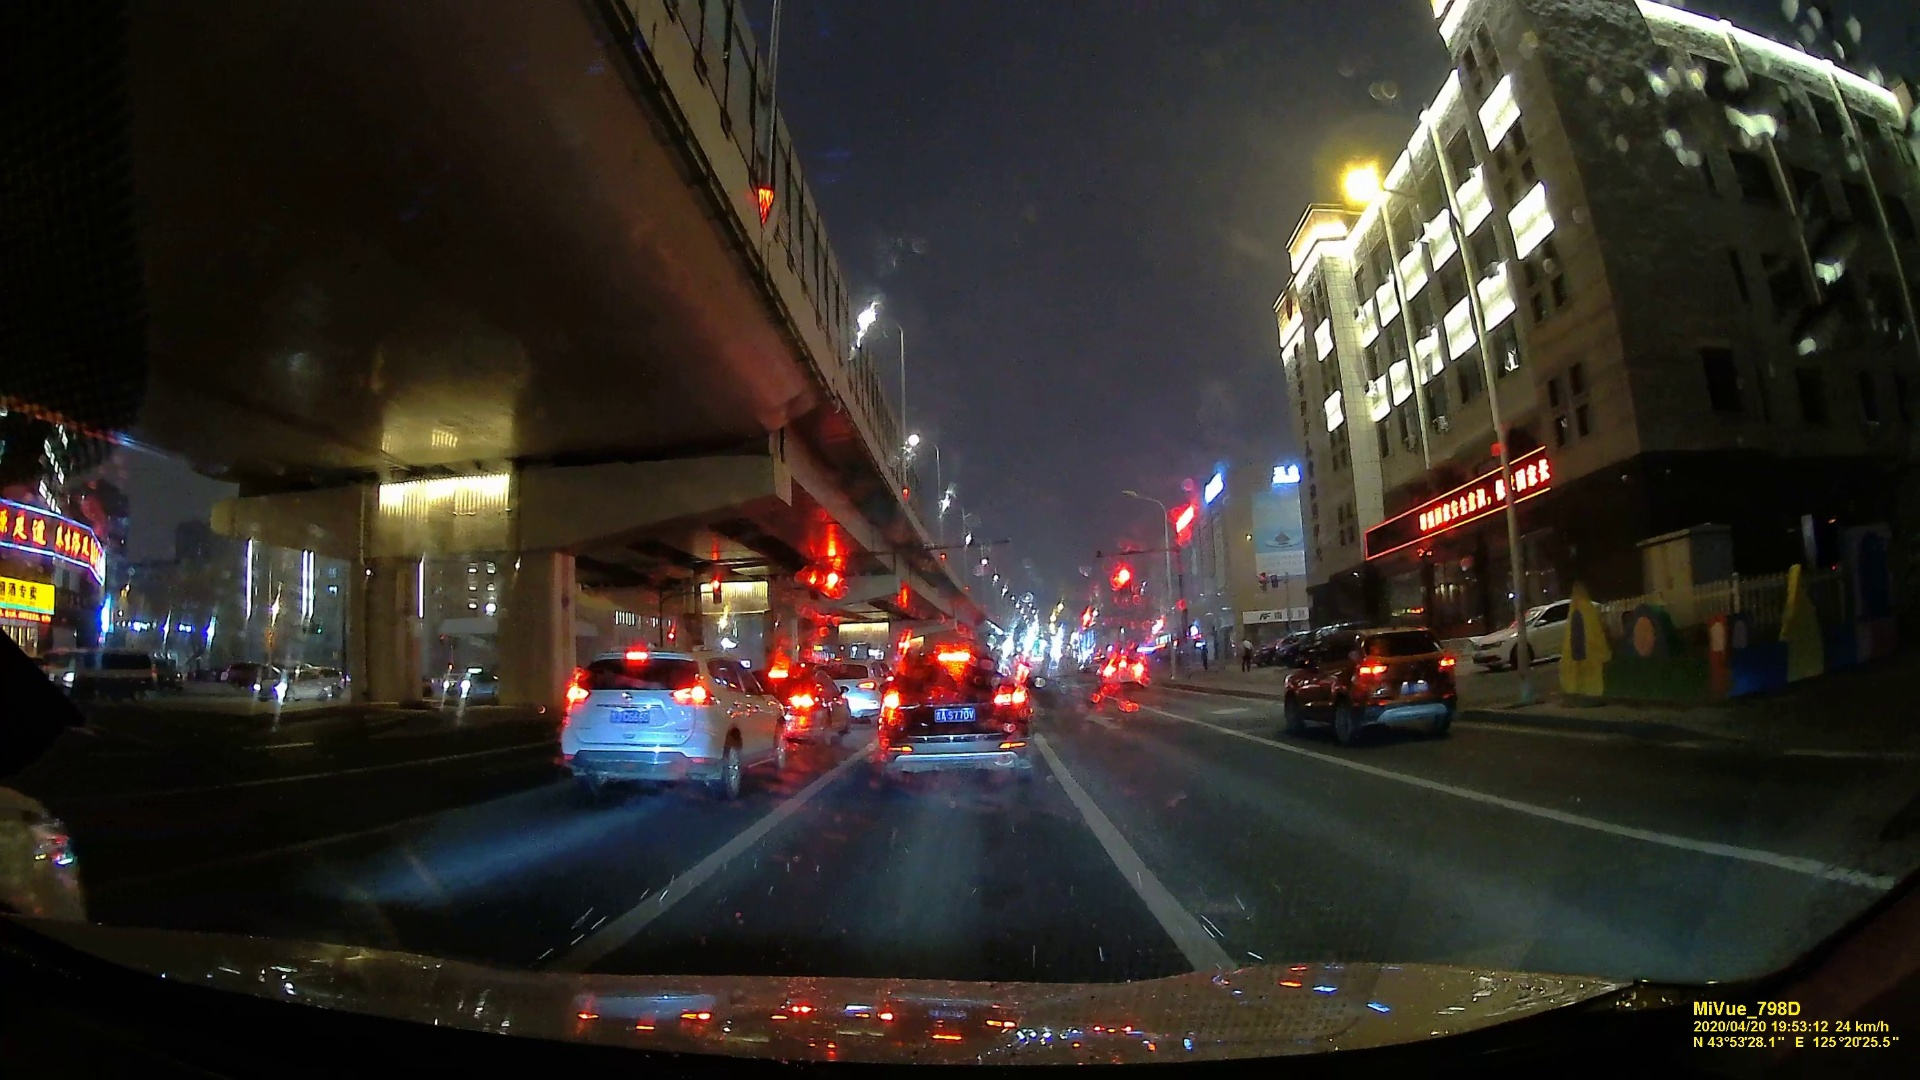person: (1238, 633, 1256, 673), (1199, 642, 1210, 668)
traffic_sign: (1112, 565, 1133, 599), (1258, 570, 1269, 592)
vehicle: (555, 650, 786, 796), (1283, 621, 1465, 746), (879, 651, 1035, 787), (1471, 600, 1580, 671), (254, 665, 324, 703)
